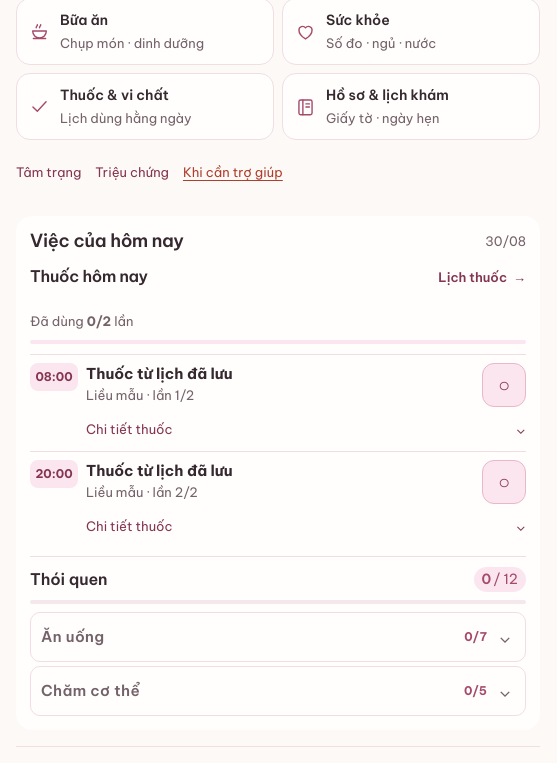
pregnancy daily page › automatically lists scheduled doses inside the checklist and records each slot without creating generic tasks
The image size is (557, 763).
(page scrolled)
Check: the number of list items with class "today-medication" is 2, box top-left (30, 354), bottom-right (526, 451); top-left (30, 451), bottom-right (526, 548)
Check: the text "08:00" is shown, box top-left (30, 363), bottom-right (78, 391)
Click the button "○" in the row of "08:00". click: (504, 385)
box: top-left (482, 363), bottom-right (526, 407)
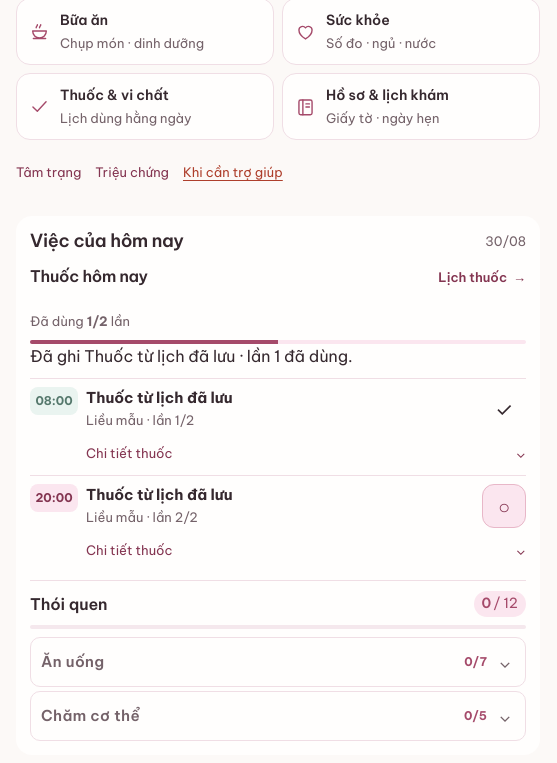
Click the button "○". click: (504, 506)
box: top-left (482, 484), bottom-right (526, 528)
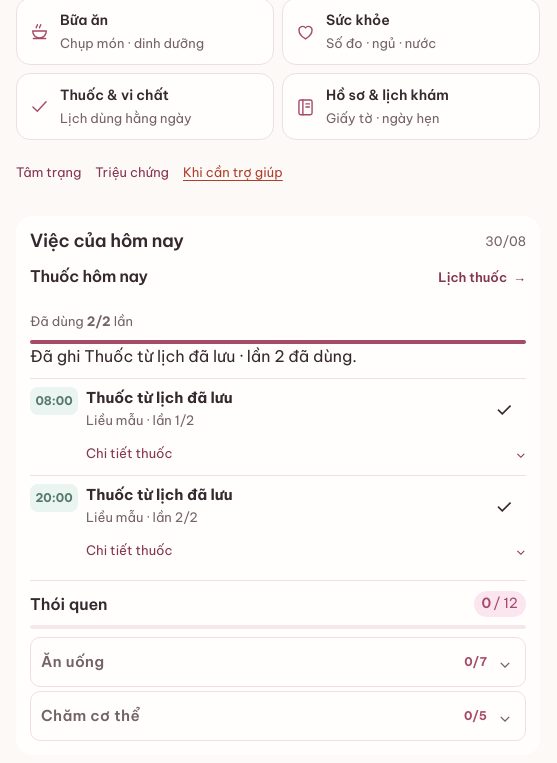
Check: the number of elements with class "today-medication-check" is 2, box top-left (495, 397), bottom-right (513, 422); top-left (495, 494), bottom-right (513, 519)
